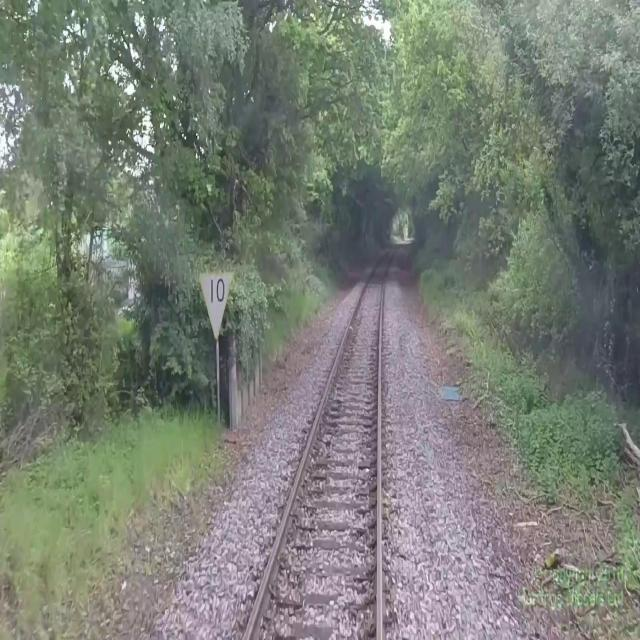rail-track: (248, 246, 395, 639)
